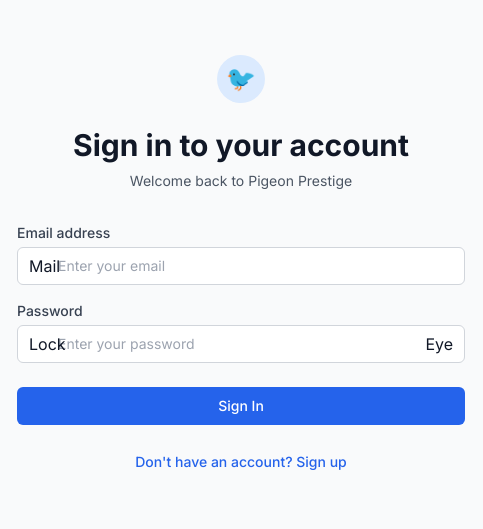
Scenario: LoginPage › Loading States › shows loading spinner during sign up
The image size is (483, 529).
# Switch to sign up mode
Click the button "Don't have an account? Sign up".
click(241, 462)  # box [135,452,347,472]
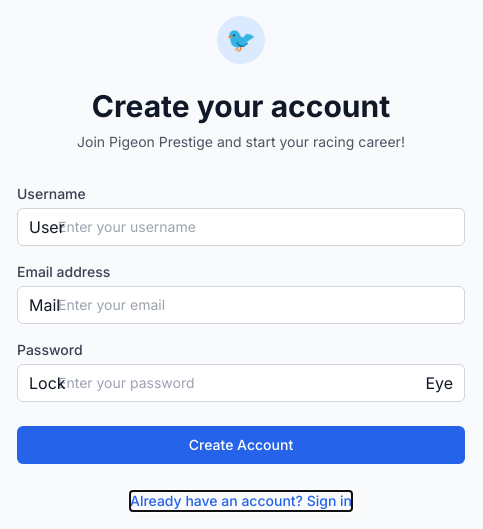
Type "testuser" into the field labelled "Username".
click(241, 227); type("testuser")  # box [17,208,465,246]
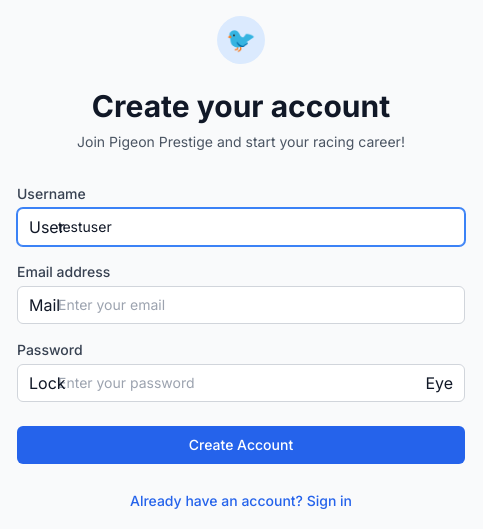
Type "test@example.com" into the field labelled "Email address".
click(241, 305); type("test@example.com")  # box [17,286,465,324]
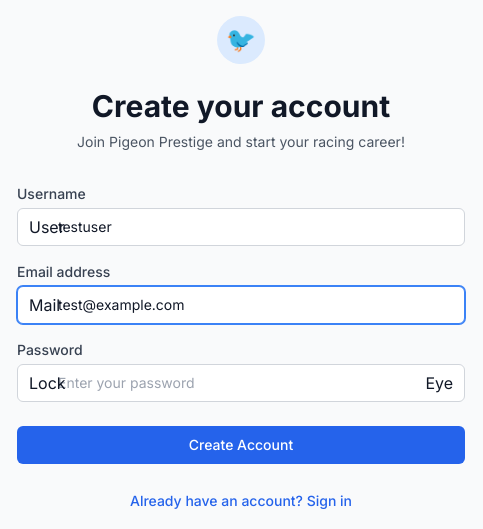
Type "password123" into the password field labelled "Password".
click(241, 383); type("password123")  # box [17,364,465,402]
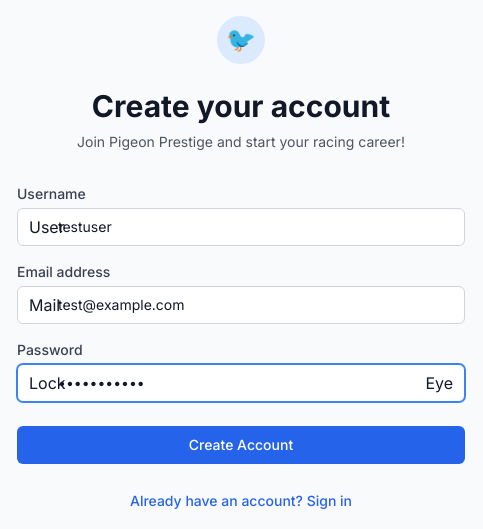
Click the button "Create Account".
click(241, 445)  # box [17,426,465,464]
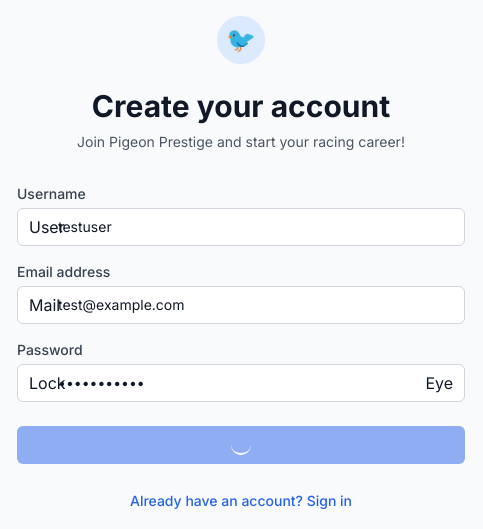
Result: the 2nd button is disabled at [17,426,465,464]
